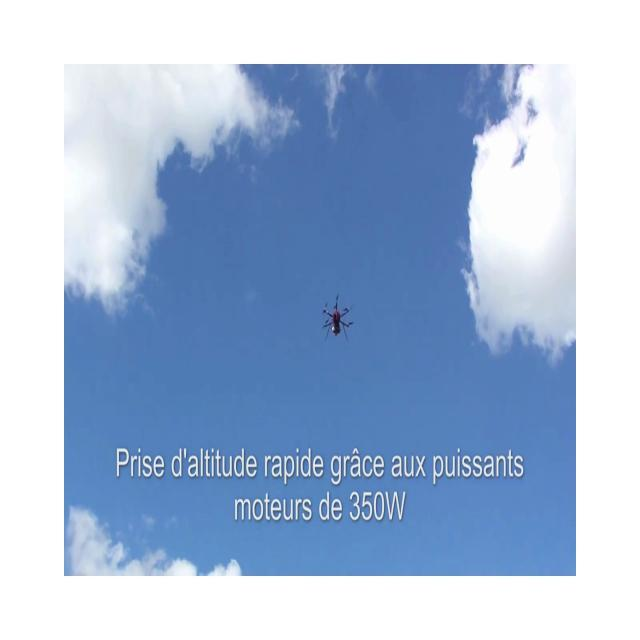drone: (322, 293, 353, 341)
